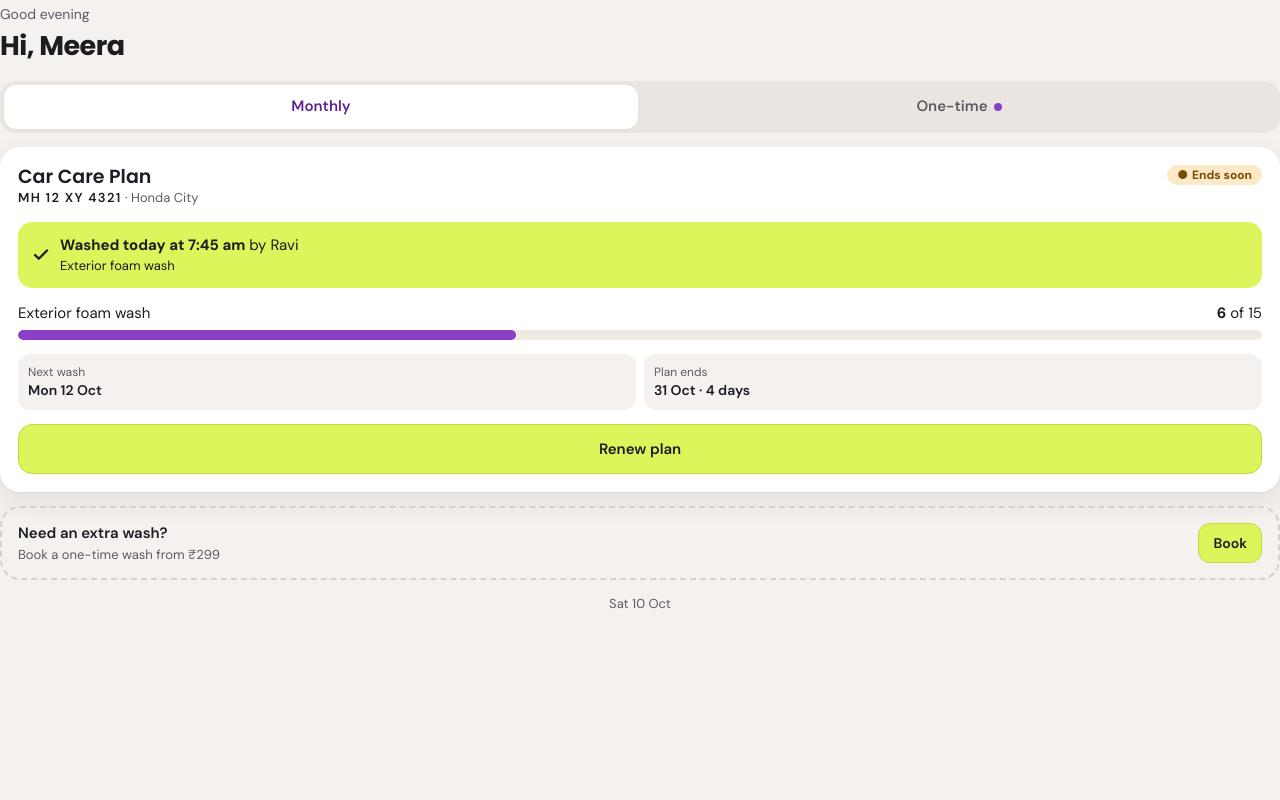
customer dashboard › active plan opens on Monthly: plan card and extra-wash card, no hero or sticky bar
Expected: the text "Ends soon" is shown, [1192,166,1252,182]
Expected: the text "Washed today at 7:45 am" is shown, [60,235,245,255]
"Book" on the extra-wash card switches to One-time with this vehicle.
Click the button "Book": (1230, 543) [1198,523,1262,563]
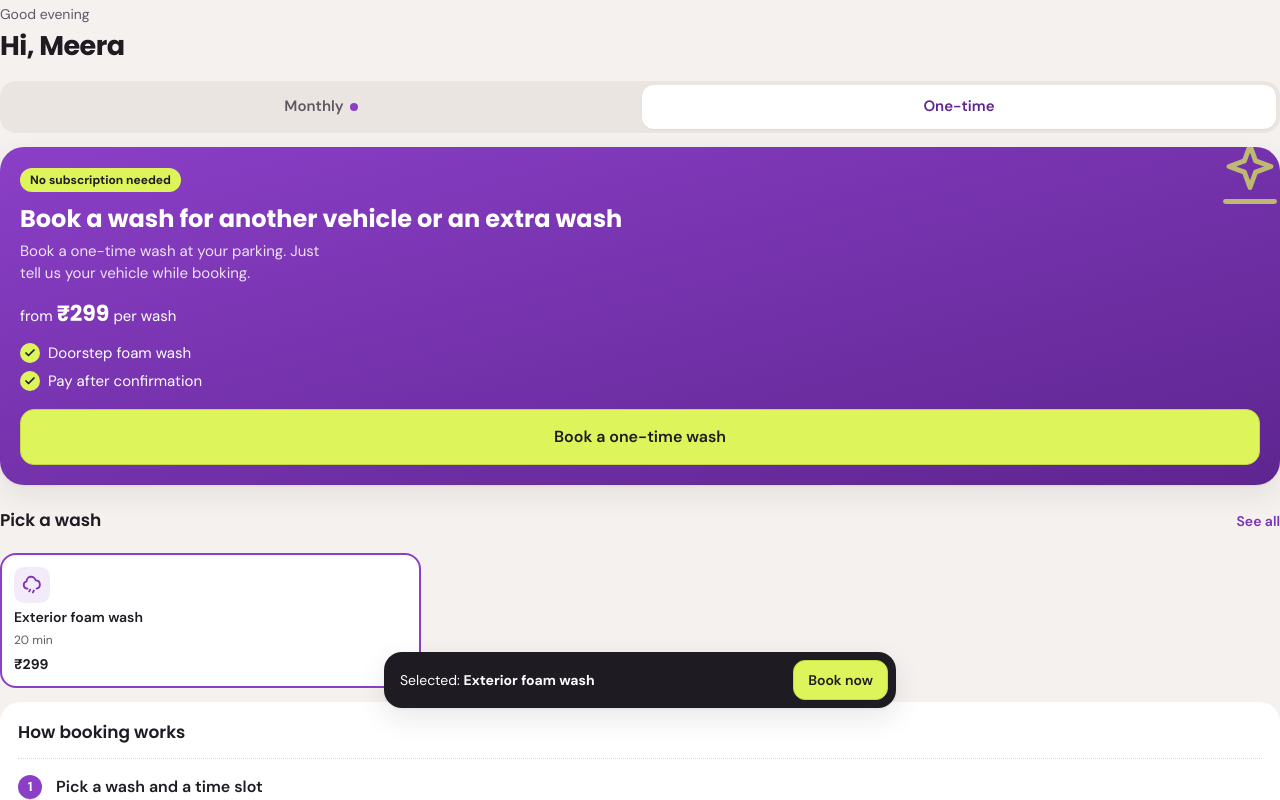
Now the heading "Book a wash for another vehicle or an extra wash" is shown, box [20,202,622,234]
